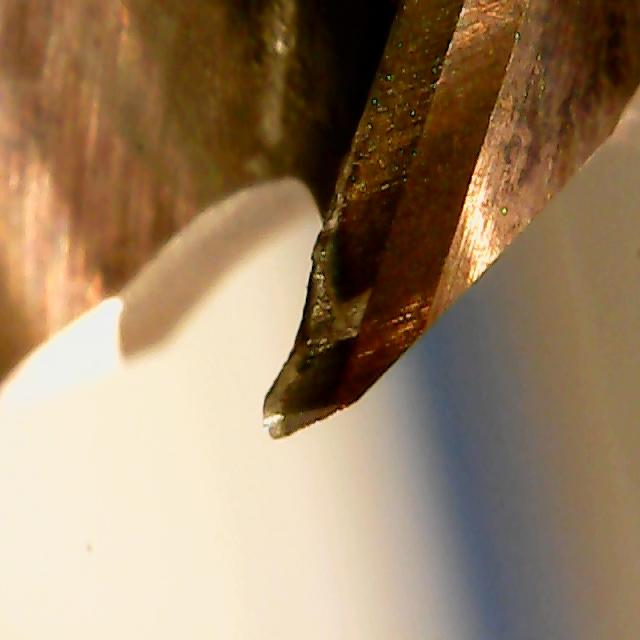Tool-wear-class-2: (242, 197, 419, 443)
